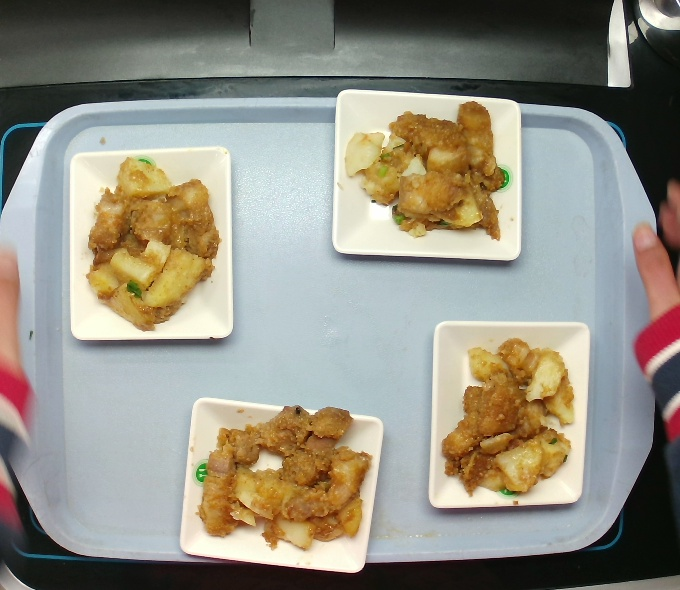wcq-FenZhenRou: (342, 77, 515, 265), (189, 406, 380, 553), (72, 162, 225, 319), (442, 328, 575, 504)
